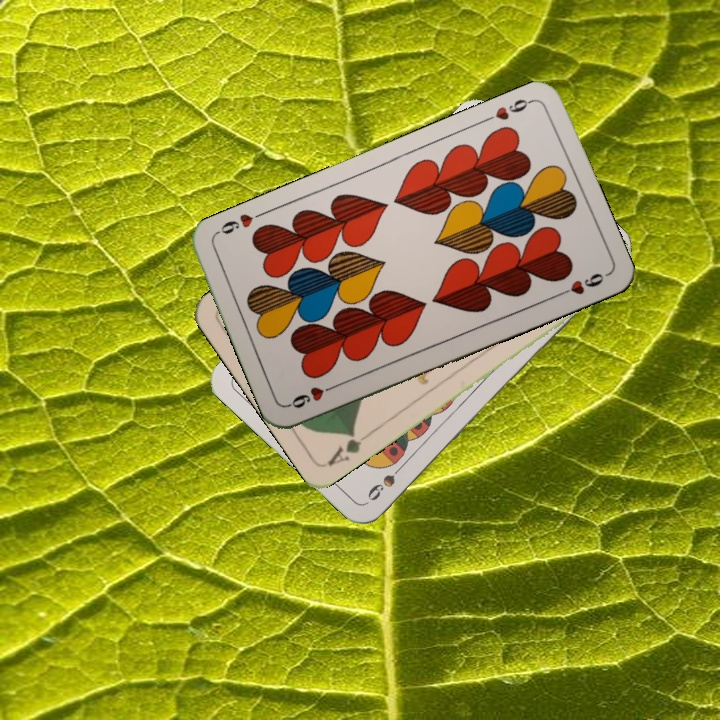GA: (323, 427, 375, 469)
H9: (284, 379, 341, 411), (480, 95, 536, 125)
S9: (363, 457, 409, 504)
